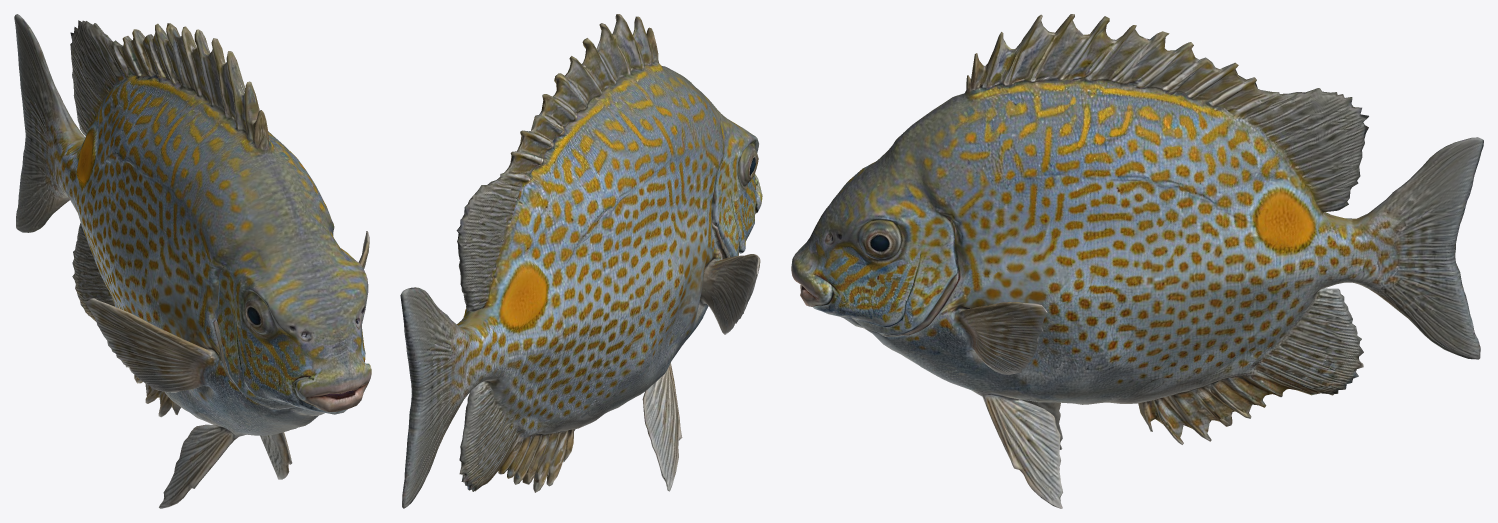
The model's file is rabbitfish.glb.
3 renders of one model, left to right at view 1: azimuth 30°, elevation 25°; view 2: azimuth 150°, elevation 25°; view 3: azimuth 270°, elevation 25°, orthographic. The views are drawn at different scales.
Visible parts, largest first — view 1: tripo_node_4ba399d2-3cc4-459c-ae8b-02f7aba20fe5; view 2: tripo_node_4ba399d2-3cc4-459c-ae8b-02f7aba20fe5; view 3: tripo_node_4ba399d2-3cc4-459c-ae8b-02f7aba20fe5.
Part boxes in pixels (left/top/right/bottom): tripo_node_4ba399d2-3cc4-459c-ae8b-02f7aba20fe5: left=14, top=14, right=371, bottom=508; tripo_node_4ba399d2-3cc4-459c-ae8b-02f7aba20fe5: left=400, top=14, right=762, bottom=508; tripo_node_4ba399d2-3cc4-459c-ae8b-02f7aba20fe5: left=791, top=14, right=1483, bottom=508.
Bounding box in the file's own units: 0.4839 × 0.7419 × 1.
1 material, 1 textured.
